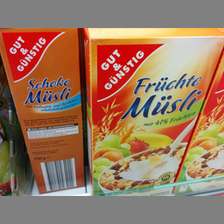cereal: (84, 28, 222, 195)
